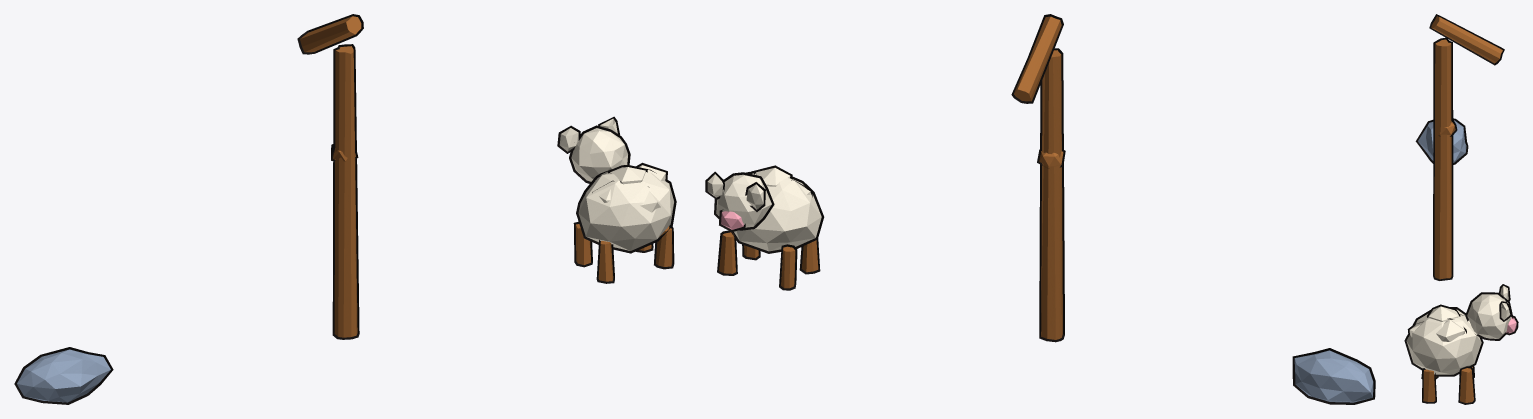
The model's file is wonder_items_v4.glb.
The picture shows the model from 3 angles, left to right: view 1: azimuth 30°, elevation 25°; view 2: azimuth 150°, elevation 25°; view 3: azimuth 270°, elevation 25°; orthographic projection. The views are drawn at different scales.
Visible parts, largest first — view 1: WonderItem_Lamb, WonderItem_Staff, WonderItem_Stone, WonderItem_Lamb_Outline, WonderItem_Staff_Outline, WonderItem_Stone_Outline; view 2: WonderItem_Lamb, WonderItem_Staff, WonderItem_Stone, WonderItem_Lamb_Outline, WonderItem_Staff_Outline, WonderItem_Stone_Outline; view 3: WonderItem_Lamb, WonderItem_Staff, WonderItem_Staff_Outline, WonderItem_Lamb_Outline, WonderItem_Stone, WonderItem_Stone_Outline.
Boxes of the visible parts, x1=… form: WonderItem_Lamb: x1=559, y1=118, x2=673, y2=281; WonderItem_Staff: x1=300, y1=16, x2=361, y2=337; WonderItem_Stone: x1=17, y1=349, x2=110, y2=402; WonderItem_Lamb_Outline: x1=557, y1=116, x2=676, y2=283; WonderItem_Staff_Outline: x1=297, y1=14, x2=363, y2=339; WonderItem_Stone_Outline: x1=14, y1=347, x2=113, y2=404; WonderItem_Lamb: x1=707, y1=168, x2=821, y2=288; WonderItem_Staff: x1=1014, y1=16, x2=1063, y2=339; WonderItem_Stone: x1=1294, y1=350, x2=1373, y2=402; WonderItem_Lamb_Outline: x1=705, y1=165, x2=824, y2=290; WonderItem_Staff_Outline: x1=1011, y1=14, x2=1065, y2=342; WonderItem_Stone_Outline: x1=1292, y1=348, x2=1375, y2=404; WonderItem_Lamb: x1=1406, y1=286, x2=1516, y2=402; WonderItem_Staff: x1=1431, y1=16, x2=1502, y2=279; WonderItem_Staff_Outline: x1=1429, y1=14, x2=1504, y2=280; WonderItem_Lamb_Outline: x1=1404, y1=284, x2=1518, y2=404; WonderItem_Stone: x1=1418, y1=120, x2=1466, y2=162; WonderItem_Stone_Outline: x1=1415, y1=118, x2=1468, y2=164.
Size of the model in its own units: 3.71 by 1.75 by 0.6859.
Materials: 5 (5 with a texture image).
